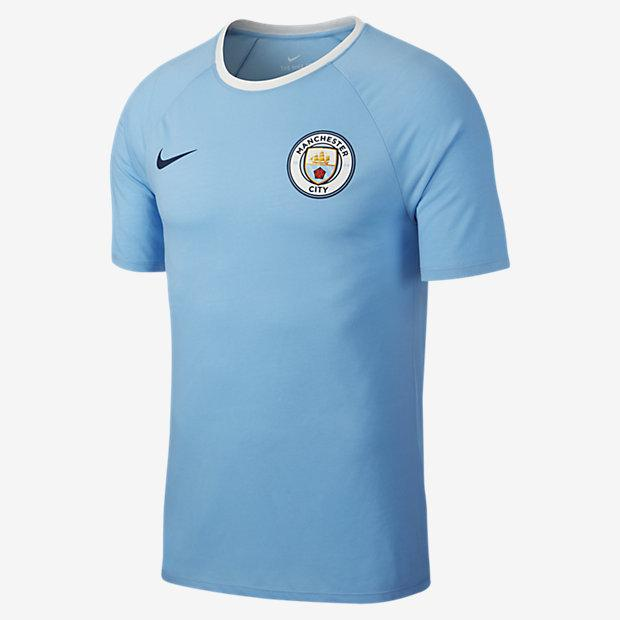teeshirt: (84, 15, 611, 542)
